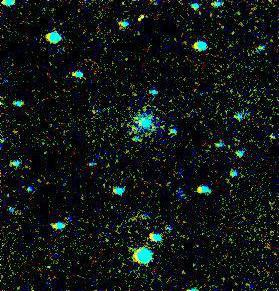star: (184, 177, 214, 207)
